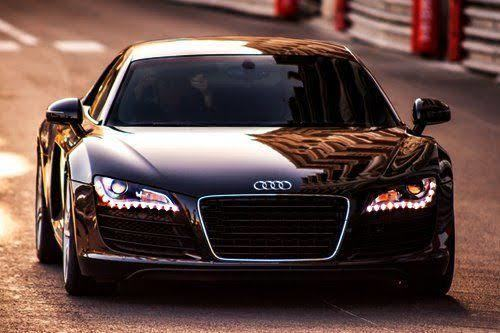audi: (25, 30, 457, 301)
